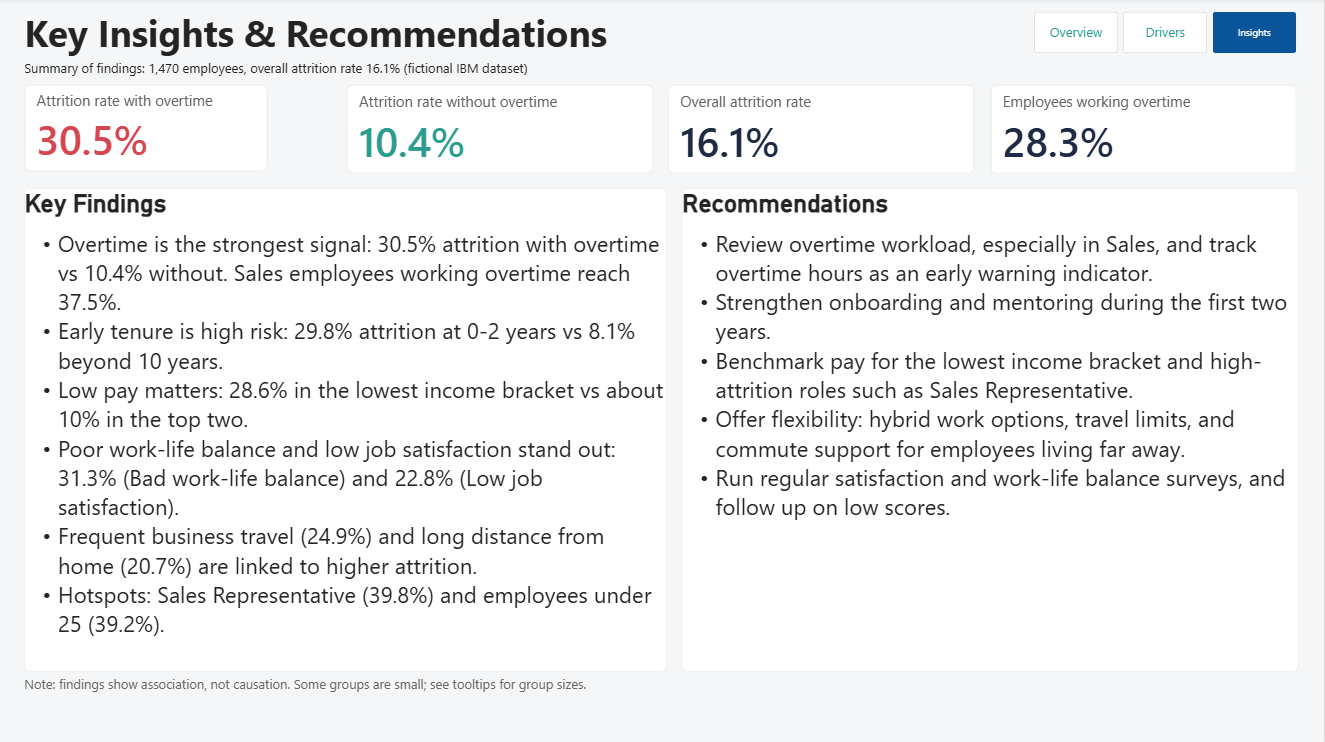

This screenshot's page, from the dashboard's own definition file:
{"tool":"powerbi","page":{"name":"Insights","canvas":[1920,1080],"ordinal":2},"visuals":[{"type":"cardVisual","title":"Overtime","fields":{"Data":["Measures (2).Overtime %"]},"box":[1436,125,444,130],"z":0},{"type":"textbox","title":"Subtitle","box":[38.5,88,1200,33],"z":1000},{"type":"cardVisual","title":"Attrition rate","fields":{"Data":["Measures (2).Attrition Rate"]},"box":[970,125,444,130],"z":2000},{"type":"cardVisual","title":"Attrition rate overtime","fields":{"Data":["Measures (2).Attrition Rate (Overtime)"]},"box":[38,125,353,126],"z":3000},{"type":"cardVisual","title":"Attrition rate no overtime","fields":{"Data":["Measures (2).Attrition Rate (No Overtime)"]},"box":[504,125,444,130],"z":4000},{"type":"textbox","title":"Title","box":[38,12.7,921.1,76],"z":5000},{"type":"textbox","title":"Recommendations","box":[990,275,893,700],"z":6000},{"type":"textbox","title":"Key Findings","box":[38,275,930,700],"z":7000},{"type":"textbox","box":[38,980,1845,40],"z":8000},{"type":"pageNavigator","box":[1500,20,380,60],"z":9000}]}

Visuals, with their boxes in screenshot pixels (x1, y1, x2, y2), scaled from the page's 1920x1080 canvas onto the 1325x742 screenshot:
"Overtime" cardVisual: locate(991, 86, 1297, 175)
"Subtitle" textbox: locate(27, 60, 855, 83)
"Attrition rate" cardVisual: locate(669, 86, 976, 175)
"Attrition rate overtime" cardVisual: locate(26, 86, 270, 172)
"Attrition rate no overtime" cardVisual: locate(348, 86, 654, 175)
"Title" textbox: locate(26, 9, 662, 61)
"Recommendations" textbox: locate(683, 189, 1299, 670)
"Key Findings" textbox: locate(26, 189, 668, 670)
textbox: locate(26, 673, 1299, 701)
pageNavigator: locate(1035, 14, 1297, 55)
